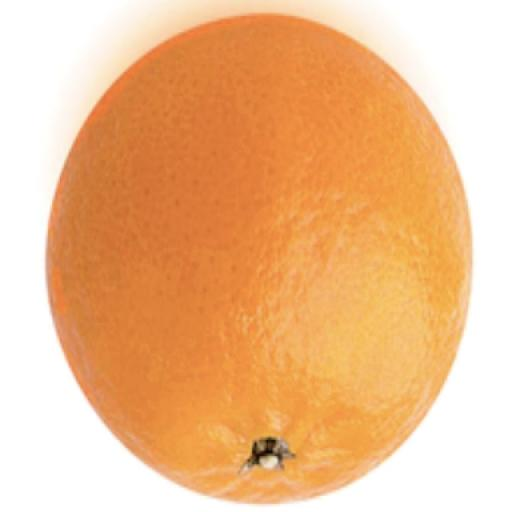orange: (46, 16, 471, 501)
